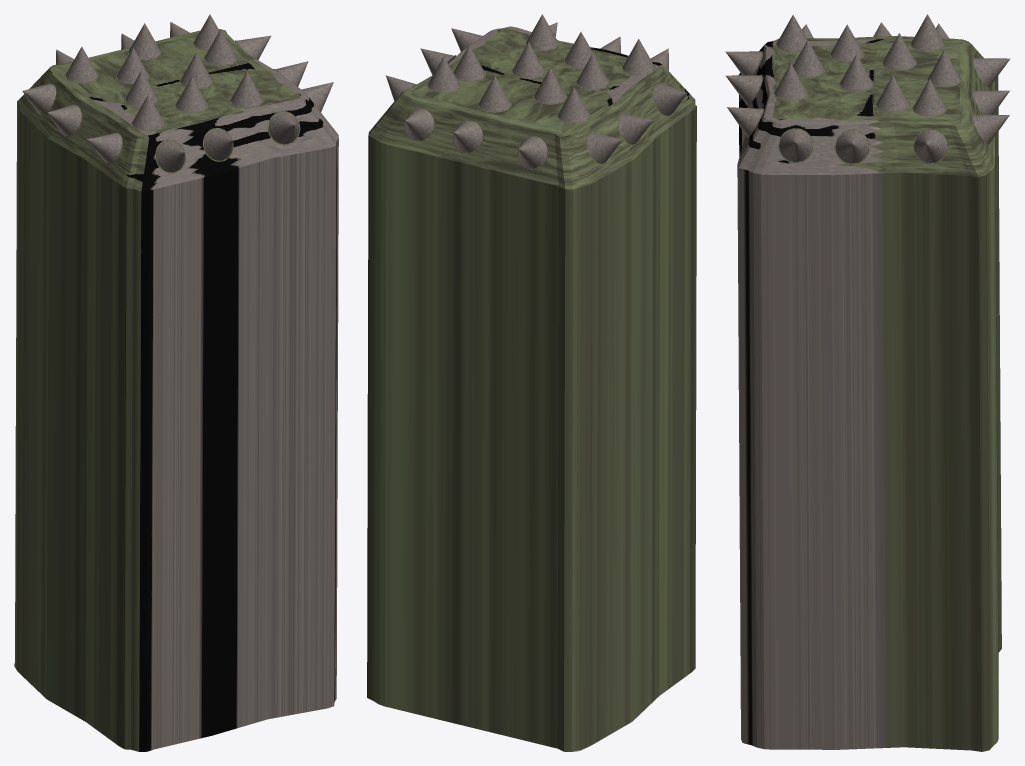
The model's file is Spike_Top_Pillar.fbx.
3 renders of one model, left to right at view 1: azimuth 30°, elevation 25°; view 2: azimuth 150°, elevation 25°; view 3: azimuth 270°, elevation 25°, orthographic. The views are drawn at different scales.
Parts seen in each view (by area): view 1: AA_Block, Side_Spikes, Side_Holes; view 2: AA_Block, Side_Spikes, Side_Holes; view 3: AA_Block, Side_Spikes, Side_Holes.
Boxes of the visible parts, x1=… form: AA_Block: x1=14, y1=29, x2=338, y2=751; Side_Spikes: x1=22, y1=14, x2=333, y2=172; Side_Holes: x1=35, y1=40, x2=300, y2=173; AA_Block: x1=367, y1=26, x2=696, y2=751; Side_Spikes: x1=386, y1=14, x2=687, y2=168; Side_Holes: x1=404, y1=39, x2=675, y2=169; AA_Block: x1=737, y1=36, x2=1001, y2=751; Side_Spikes: x1=725, y1=14, x2=1010, y2=163; Side_Holes: x1=745, y1=40, x2=990, y2=164.
Size of the model in its own units: 227 by 557 by 222.
